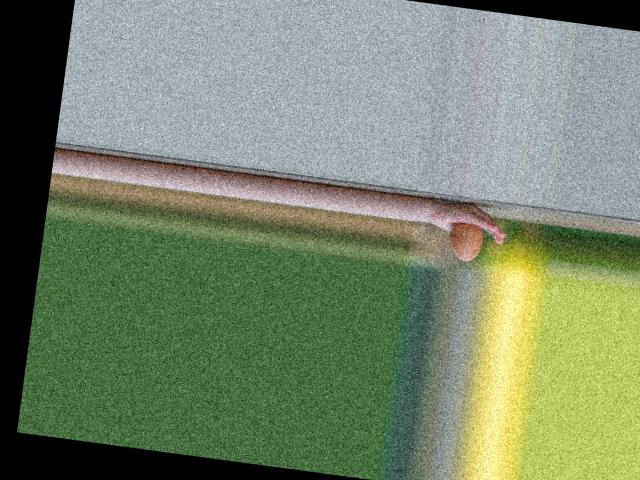egg: (445, 220, 484, 262)
